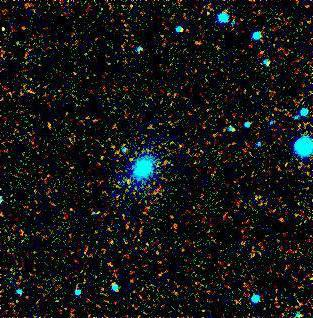star: (0, 14, 21, 44)
